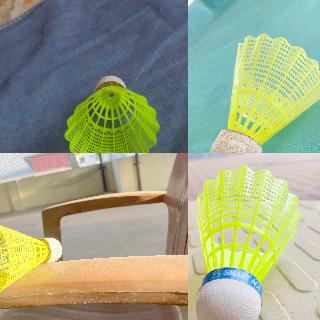shuttlecock: (196, 164, 301, 319), (209, 32, 319, 152), (64, 75, 159, 152), (0, 220, 62, 293)
